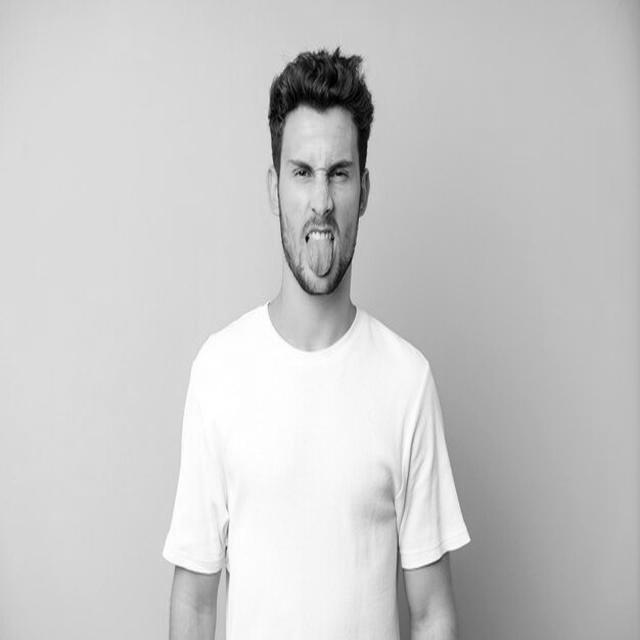Disgust: (278, 107, 360, 295)
